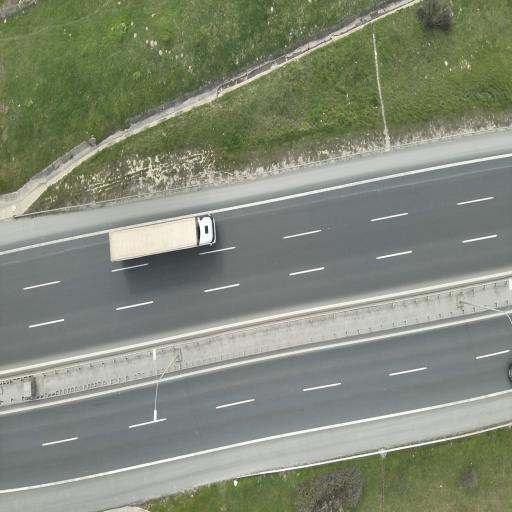car: (109, 216, 215, 261), (508, 362, 511, 381)
